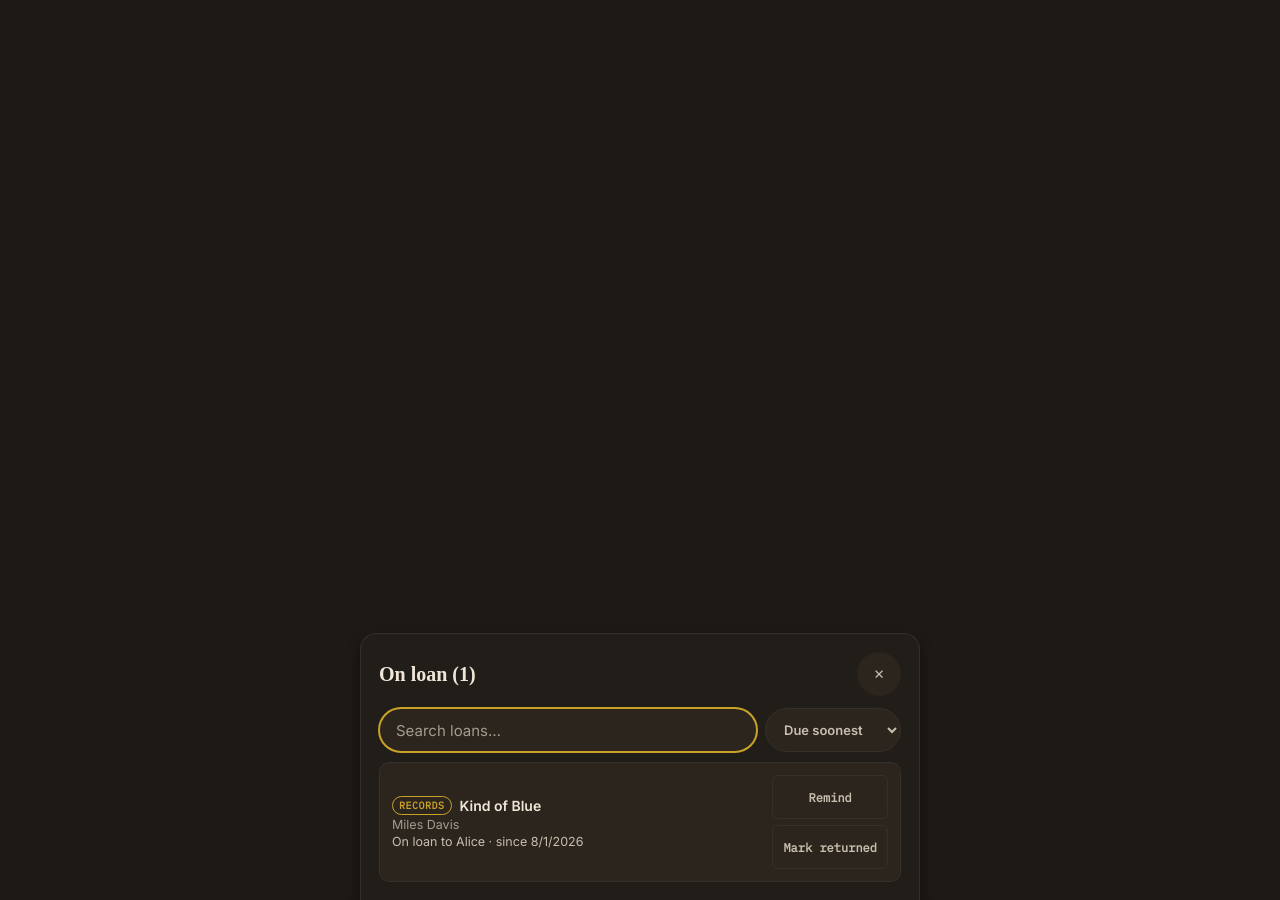
LoansDashboard (W7) › marks a loan returned via the two-step confirm and notifies the app
Check: the text "Kind of Blue" is shown, box [460, 796, 541, 814]
Note: First tap arms the confirm label without calling the API.
Click the button "Mark returned" at (830, 847), box [772, 825, 888, 869]
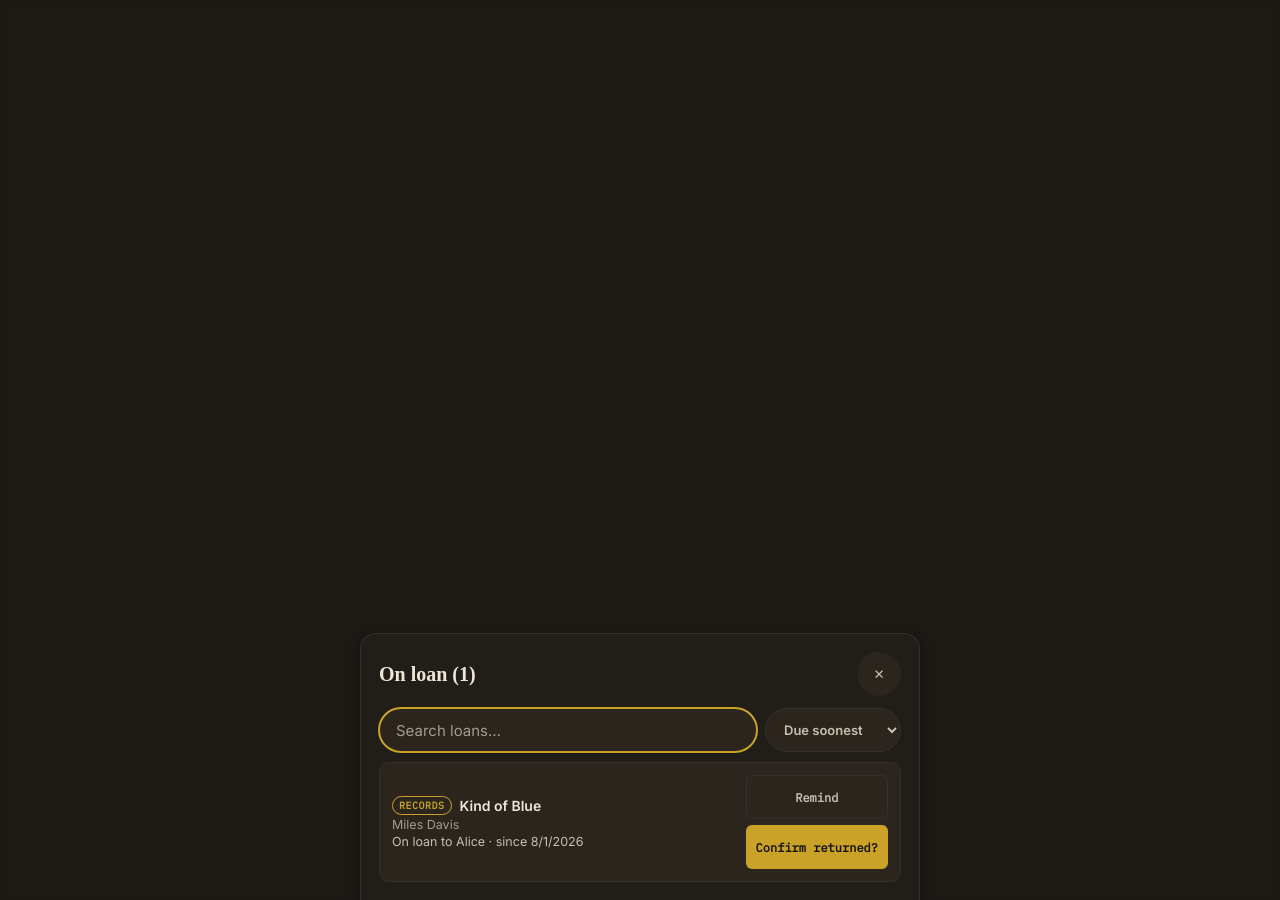
Check: the button "Confirm returned?" is shown
Note: Second tap performs the return for the right collection + item.
Click the button "Confirm returned?" at (817, 847), box [746, 825, 888, 869]
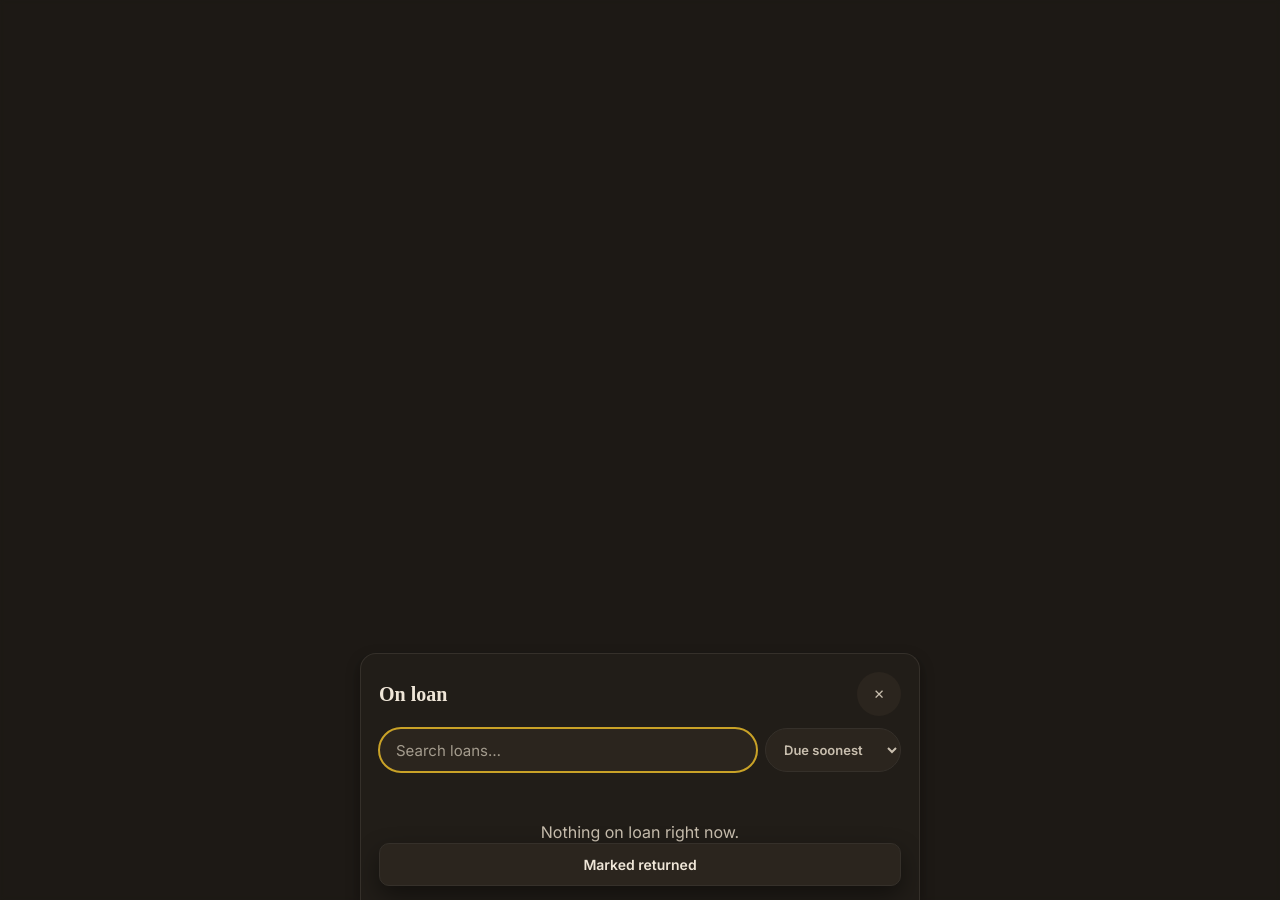
Check: no list items with class "loan-row" are shown
Check: the text "Marked returned" is shown, box [379, 843, 901, 886]
